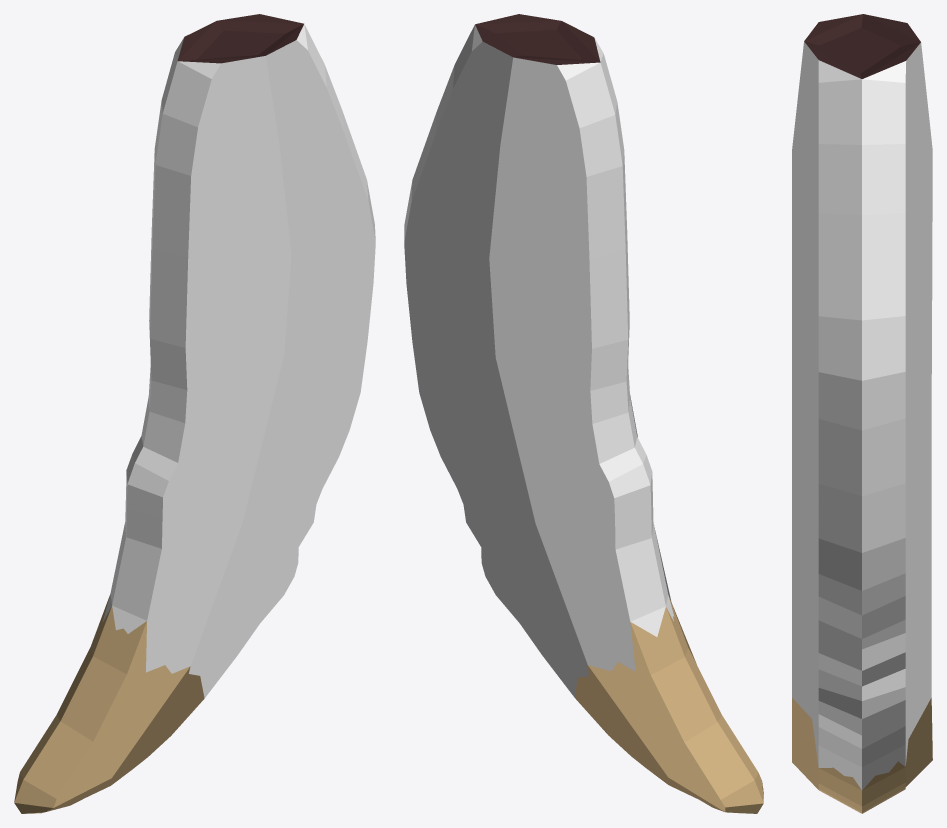
Rendered from Diente .fbx.
3 views of the same model, side by side, from view 1: azimuth 30°, elevation 25°; view 2: azimuth 150°, elevation 25°; view 3: azimuth 270°, elevation 25° (orthographic). The views are drawn at different scales.
Visible parts, largest first — view 1: collar .001; view 2: collar .001; view 3: collar .001.
Part boxes in pixels (box(x1,y1,x2,y2)): collar .001: box(14, 14, 375, 813); collar .001: box(404, 14, 763, 813); collar .001: box(792, 14, 932, 813).
Bounding box in the file's own units: 22.68 × 43.84 × 6.41.
